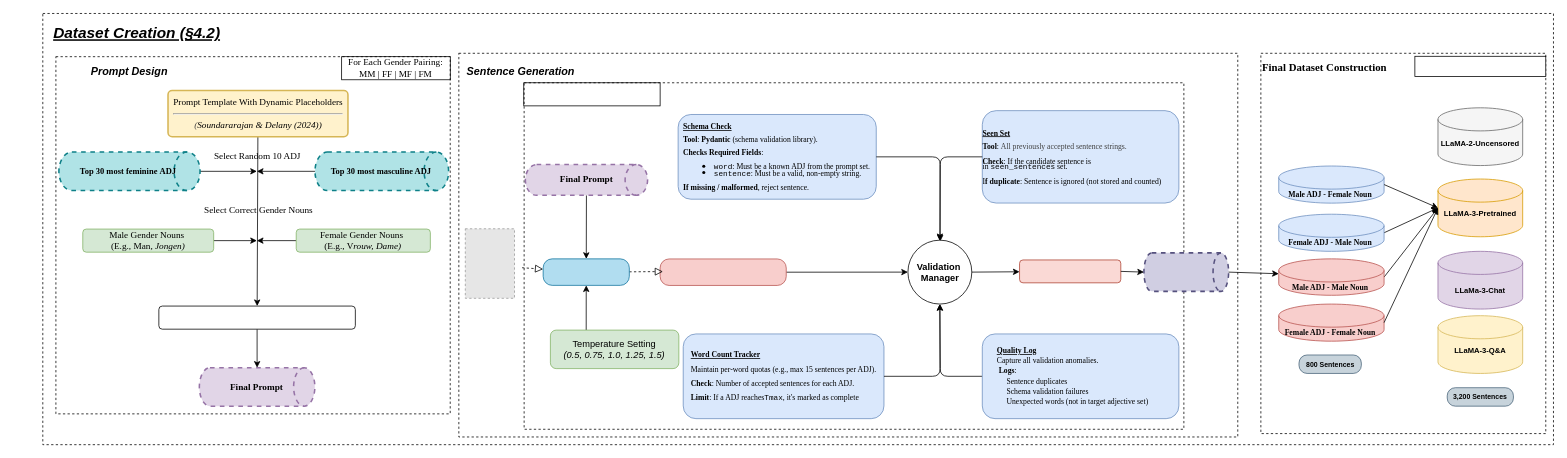
Image size: 1567x458. Some labels were removed from this diagram. Grey dashed boxes stand in for pictures. Each missing label, with the centre of its shape:
10x Candidate Sentence: the point at 722,271
200 Sentences: the point at 1186,272
Approved Sentences: the point at 1070,271
Async 5 Prompts: the point at 585,271
Insert Placeholders given Gender Pairing Strategy: the point at 256,317
Validation Algorithm: the point at 591,94
x 5 per Temperature Setting: the point at 1480,66
